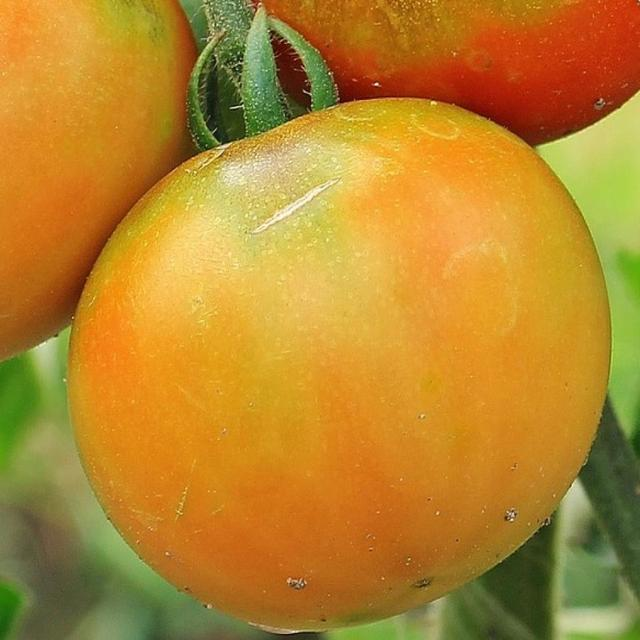Spotted wilt Virus Fruit: (111, 37, 248, 138)
